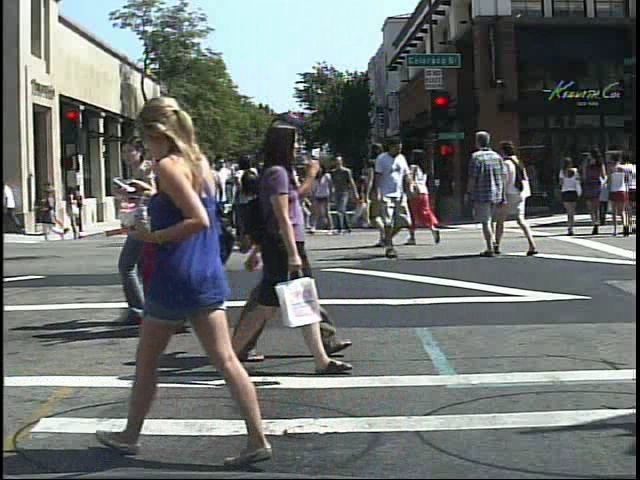person: (117, 80, 297, 475), (210, 118, 351, 380), (129, 134, 222, 343), (273, 105, 342, 366), (113, 130, 170, 332), (466, 127, 509, 264), (374, 133, 420, 260), (363, 134, 405, 252), (269, 146, 314, 252), (232, 150, 274, 261), (194, 144, 233, 259), (501, 133, 536, 258), (229, 149, 267, 253), (200, 152, 238, 252), (408, 143, 442, 247), (555, 151, 586, 237), (174, 171, 195, 240), (67, 182, 87, 232)
